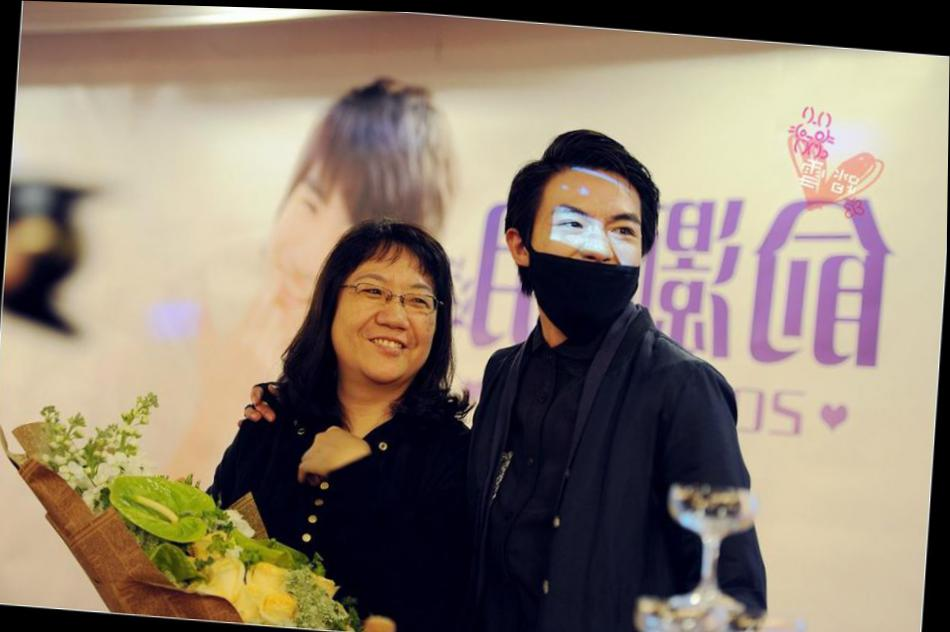NONE: (261, 173, 374, 330), (340, 268, 441, 376)
WRONG: (523, 201, 648, 328)
